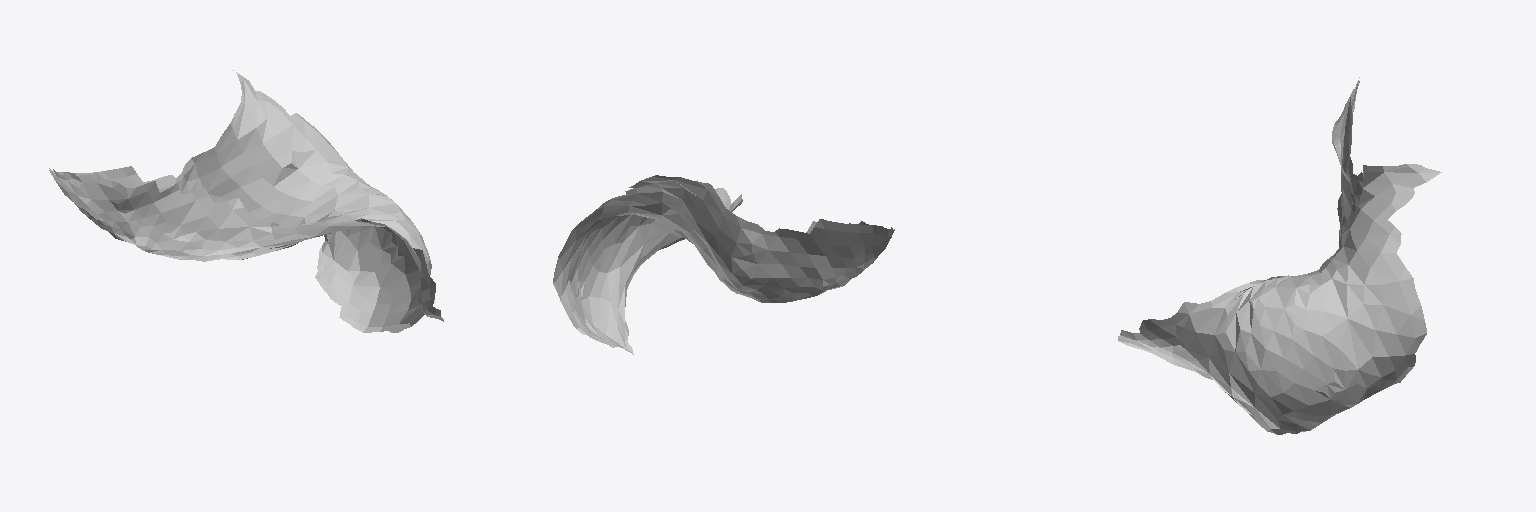
Rendered from L_lateral_orbital_sulcus.obj.
3 renders of one model, left to right at view 1: azimuth 30°, elevation 25°; view 2: azimuth 150°, elevation 25°; view 3: azimuth 270°, elevation 25°, orthographic.
Parts seen in each view (by area): view 1: L_lateral_orbital_sulcus_R_lateral_orbital_sulcus; view 2: L_lateral_orbital_sulcus_R_lateral_orbital_sulcus; view 3: L_lateral_orbital_sulcus_R_lateral_orbital_sulcus.
Part boxes in pixels (x1,y1,x2,y2): L_lateral_orbital_sulcus_R_lateral_orbital_sulcus: (49,70,443,332); L_lateral_orbital_sulcus_R_lateral_orbital_sulcus: (553,175,894,354); L_lateral_orbital_sulcus_R_lateral_orbital_sulcus: (1118,77,1441,434).
Bounding box in the file's own units: 73.05 × 48.52 × 61.39.